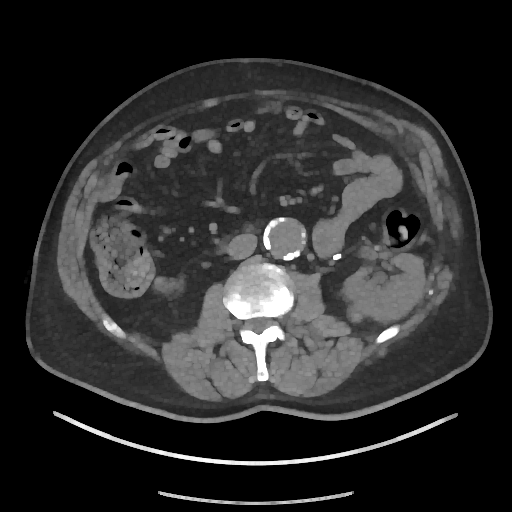Lesion: (343, 301, 370, 325)
